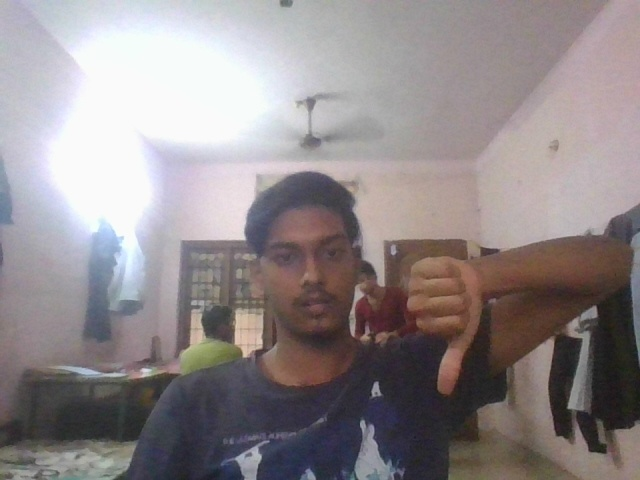thumbsdown: (402, 252, 501, 403)
